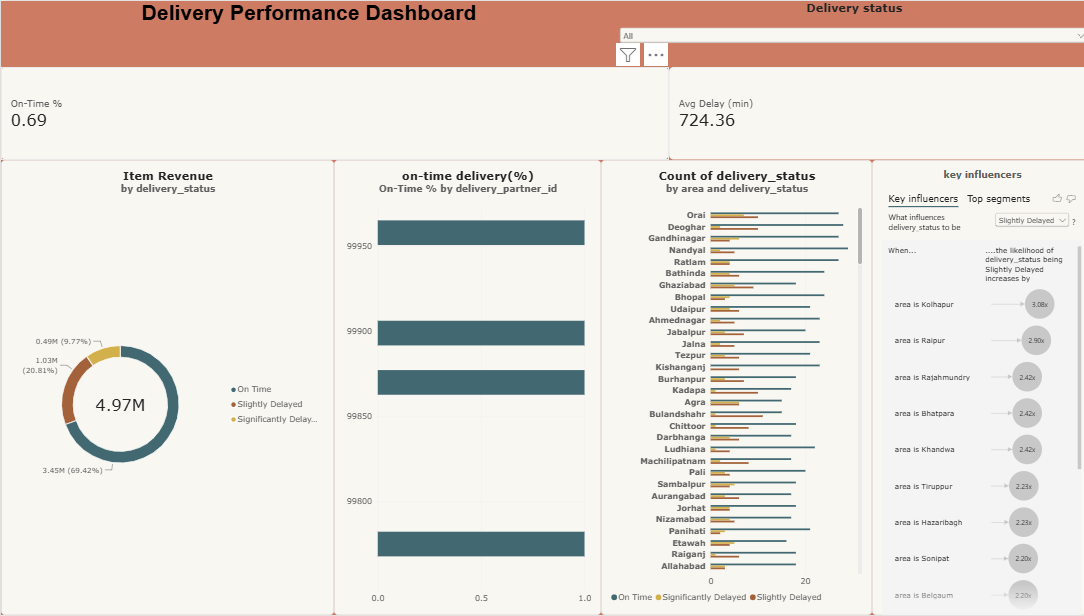

Layout of this report page (visuals, bound fields, positions):
{"tool":"powerbi","page":{"name":"Delivery performance","canvas":[1920,1080],"ordinal":1},"visuals":[{"type":"cardVisual","fields":{"Data":["Date.On-Time %"]},"box":[0,116.2,1175.6,163.7],"z":0},{"type":"donutChart","fields":{"Category":["blinkit_orders.delivery_status"],"Y":["Date.Item Revenue"]},"box":[0,279.8,586,800.7],"z":1000},{"type":"cardVisual","fields":{"Data":["Date.Avg Delay (min)"]},"box":[1175.6,116.2,744.4,163.7],"z":2000},{"type":"clusteredBarChart","title":"on-time  delivery(%)","fields":{"Y":["Date.On-Time %"],"Category":["blinkit_orders.delivery_partner_id"]},"box":[586,279.8,469.9,800.7],"z":3000},{"type":"clusteredBarChart","fields":{"Category":["blinkit_customers.area"],"Y":["CountNonNull(blinkit_orders.delivery_status)"],"Series":["blinkit_orders.delivery_status"]},"box":[1055.9,279.8,476.9,800.7],"z":4000},{"type":"keyDriversVisual","fields":{"Target":["blinkit_orders.delivery_status"],"ExplainBy":["blinkit_customers.area","blinkit_orders.payment_method","Sum(blinkit_orders.store_id)","blinkit_products.category"]},"box":[1532.8,279.8,387.2,800.7],"z":5000},{"type":"slicer","title":"Delivery status","fields":{"Values":["blinkit_orders.delivery_status"]},"box":[1084.1,0,835.9,116.2],"z":6000},{"type":"textbox","box":[0,0,1084.1,116.2],"z":7000}]}

Visuals, with their boxes in screenshot pixels (x1, y1, x2, y2), scaled from the page's 1920x1080 canvas onto the 1084x616 screenshot:
cardVisual - Date.On-Time %: 0, 66, 664, 160
donutChart - blinkit_orders.delivery_status x Date.Item Revenue: 0, 160, 331, 615
cardVisual - Date.Avg Delay (min): 664, 66, 1083, 160
"on-time  delivery(%)" clusteredBarChart: 331, 160, 596, 615
clusteredBarChart - blinkit_customers.area x CountNonNull(blinkit_orders.delivery_status): 596, 160, 865, 615
keyDriversVisual - blinkit_orders.delivery_status x blinkit_customers.area: 865, 160, 1083, 615
"Delivery status" slicer: 612, 0, 1083, 66
textbox: 0, 0, 612, 66
